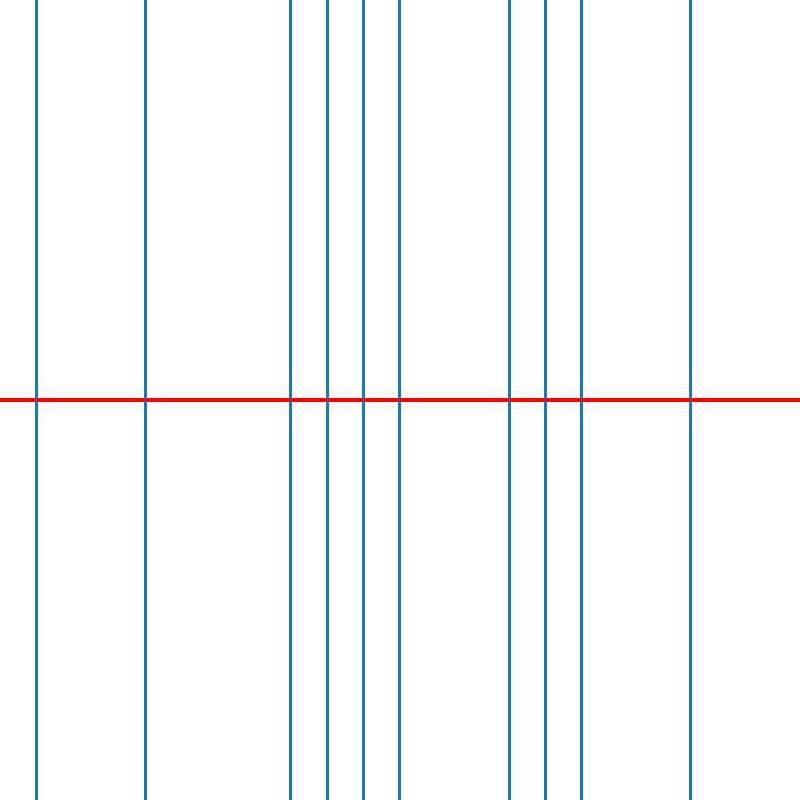root: (32, 396, 40, 404), (541, 396, 549, 404), (141, 396, 149, 404), (505, 396, 512, 404), (323, 396, 330, 404), (360, 396, 367, 404), (396, 396, 403, 404), (578, 396, 585, 404), (287, 396, 294, 404), (687, 396, 694, 404)
